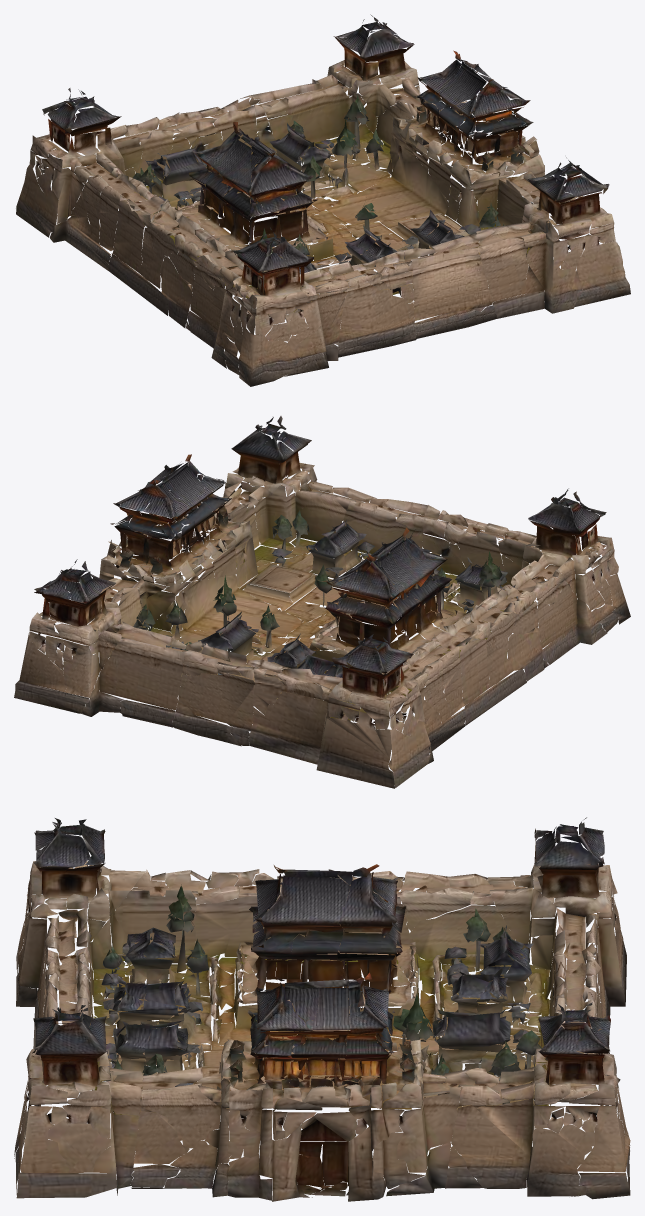
Rendered from city-major.glb.
3 renders of one model, top to bottom at view 1: azimuth 30°, elevation 25°; view 2: azimuth 150°, elevation 25°; view 3: azimuth 270°, elevation 25°, orthographic. The views are drawn at different scales.
Parts seen in each view (by area): view 1: x-city-major; view 2: x-city-major; view 3: x-city-major.
Part boxes in pixels (x1,y1,x2,y2): x-city-major: [16, 14, 630, 386]; x-city-major: [14, 416, 630, 788]; x-city-major: [14, 817, 630, 1201].
Bounding box in the file's own units: 0.8465 × 0.3276 × 0.9017.
1 material, 1 textured.
